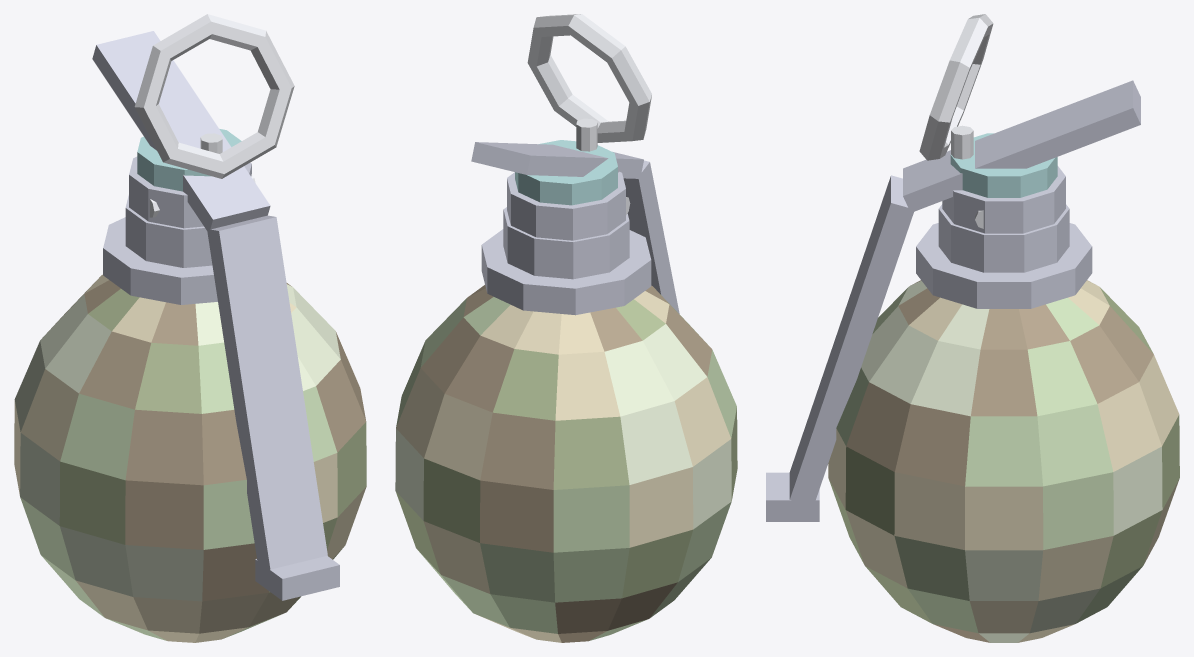
The model's file is Grenade.fbx.
3 renders of one model, left to right at view 1: azimuth 30°, elevation 25°; view 2: azimuth 150°, elevation 25°; view 3: azimuth 270°, elevation 25°, orthographic. The views are drawn at different scales.
Visible parts, largest first — view 1: SM_Wep_Grenade_01; view 2: SM_Wep_Grenade_01; view 3: SM_Wep_Grenade_01.
Boxes of the visible parts, left/top/right/bottom form: SM_Wep_Grenade_01: left=14, top=14, right=366, bottom=642; SM_Wep_Grenade_01: left=395, top=14, right=737, bottom=642; SM_Wep_Grenade_01: left=766, top=14, right=1179, bottom=642.
Size of the model in its own units: 5.76 by 11.37 by 6.95.
